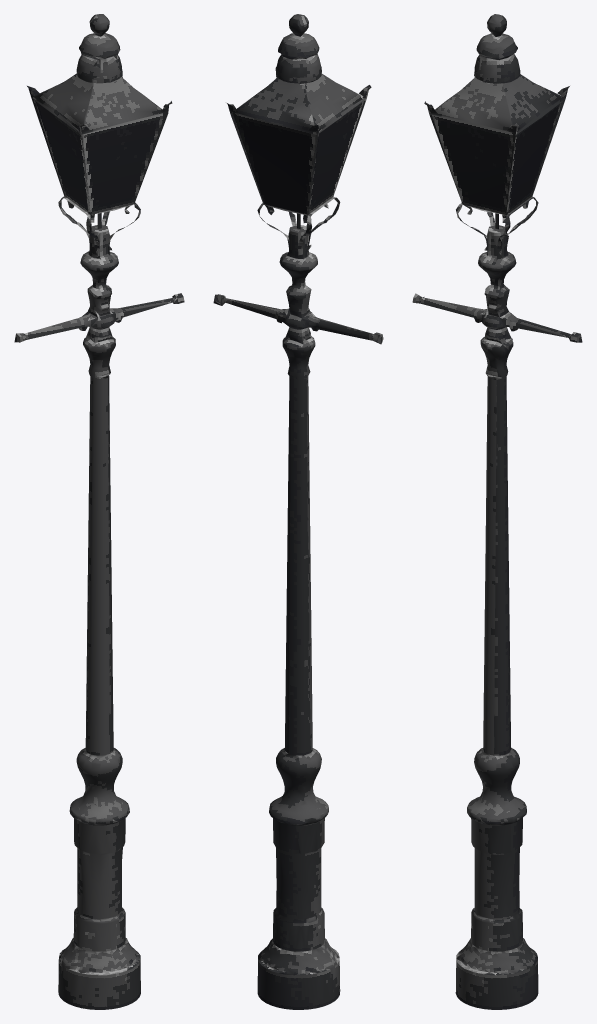
File: street_lamp.glb
3 views of the same model, side by side, from view 1: azimuth 30°, elevation 25°; view 2: azimuth 150°, elevation 25°; view 3: azimuth 330°, elevation 25° (orthographic).
Visible parts, largest first — view 1: mesh; view 2: mesh; view 3: mesh.
Boxes of the visible parts, x1,y1,x2,y2 form: mesh: (14, 14, 184, 1009); mesh: (213, 14, 383, 1009); mesh: (412, 14, 582, 1009).
Bounding box in the file's own units: 0.6969 × 3.87 × 0.3856.
Materials: 1 (1 with a texture image).
